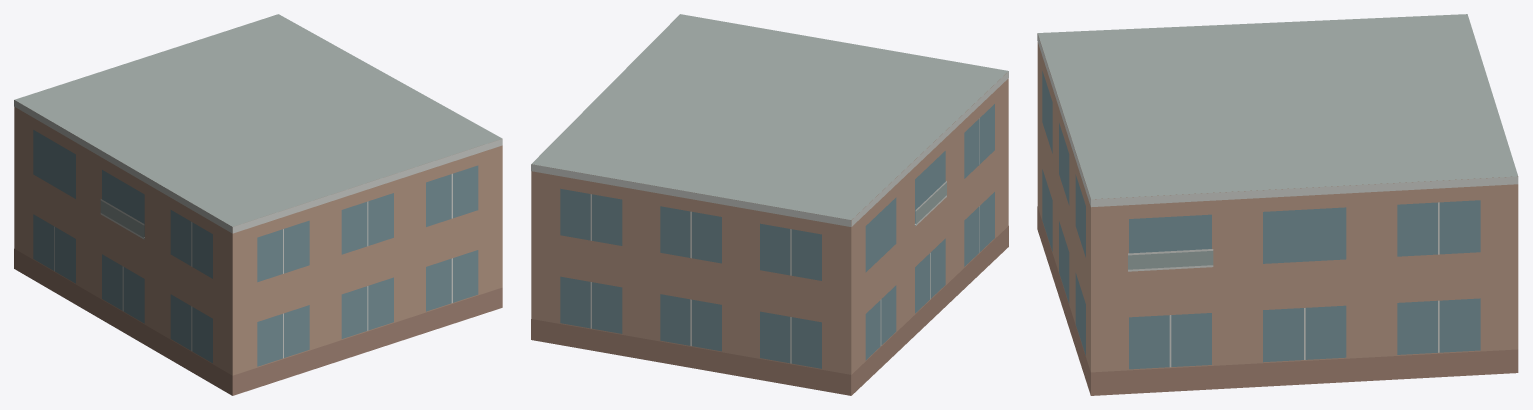
The model's file is survey-upis-32782044.glb.
3 renders of one model, left to right at view 1: azimuth 30°, elevation 25°; view 2: azimuth 150°, elevation 25°; view 3: azimuth 270°, elevation 25°, orthographic. The views are drawn at different scales.
Parts seen in each view (by area): view 1: survey-upis-32782044.tmp; view 2: survey-upis-32782044.tmp; view 3: survey-upis-32782044.tmp.
Boxes of the visible parts, left/top/right/bottom form: survey-upis-32782044.tmp: left=14, top=14, right=502, bottom=395; survey-upis-32782044.tmp: left=531, top=14, right=1008, bottom=395; survey-upis-32782044.tmp: left=1037, top=14, right=1518, bottom=395.
Bounding box in the file's own units: 12.35 × 6.1 × 13.53.
